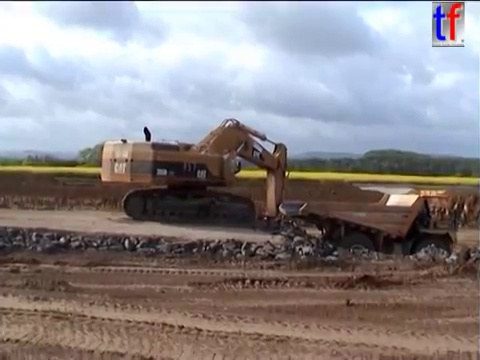excavator: (98, 116, 302, 252)
truck: (277, 186, 464, 279)
